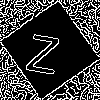Z: (25, 25, 63, 75)
